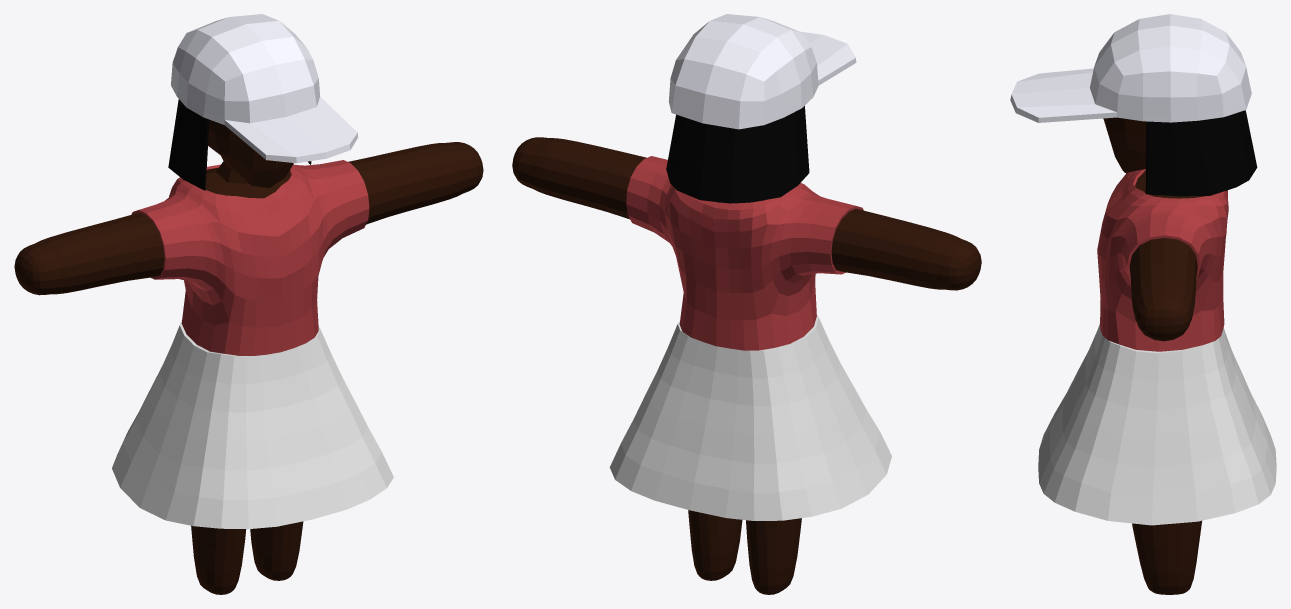
The model's file is Mod10.glb.
3 views of the same model, side by side, from view 1: azimuth 30°, elevation 25°; view 2: azimuth 150°, elevation 25°; view 3: azimuth 270°, elevation 25° (orthographic).
Visible parts, largest first — view 1: Modelo 2a; view 2: Modelo 2a; view 3: Modelo 2a.
Boxes of the visible parts, box(x1,y1,x2,y2) form: Modelo 2a: box(14, 14, 483, 594); Modelo 2a: box(512, 14, 981, 594); Modelo 2a: box(1010, 14, 1276, 594).
Bounding box in the file's own units: 7.96 × 9.24 × 4.05.
